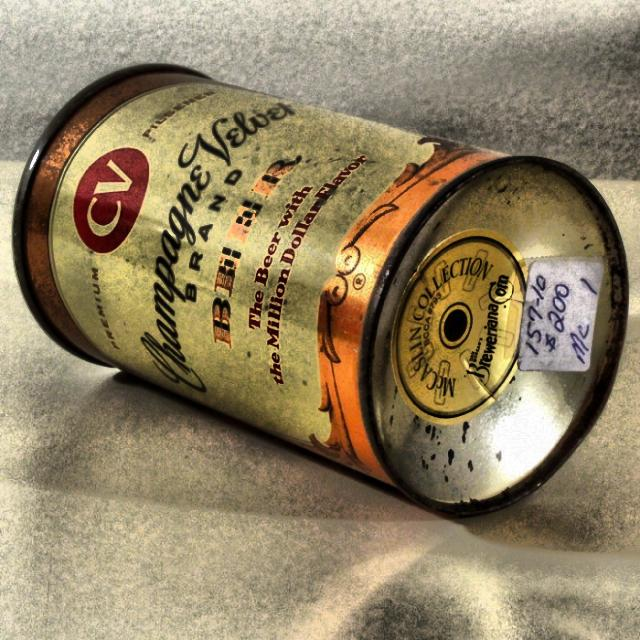Cans: (0, 45, 640, 520)
